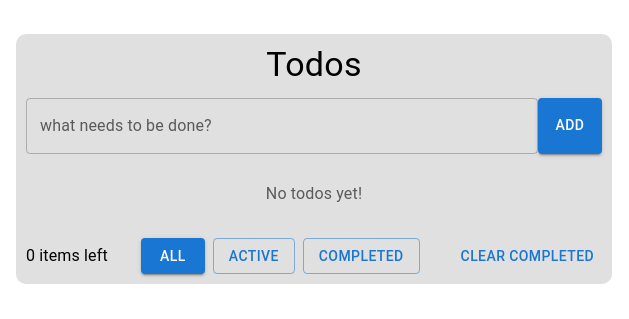
adds a new todo
In the field labelled "what needs to be done?": (282, 126) [26,98,538,154], type "Buy milk"
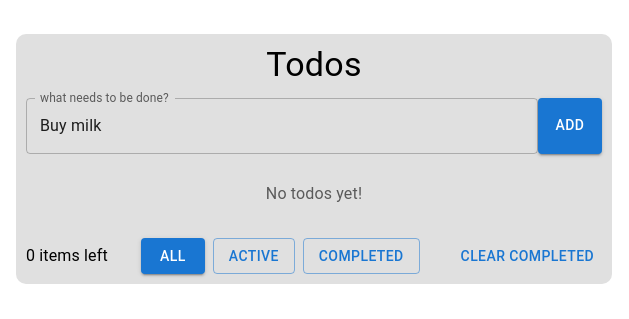
Click the button "Add": (570, 126) [538,98,602,154]
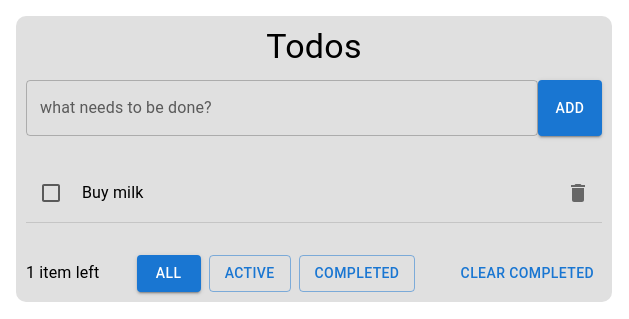
Expected: the text "Buy milk" is shown, [82,181,144,205]
